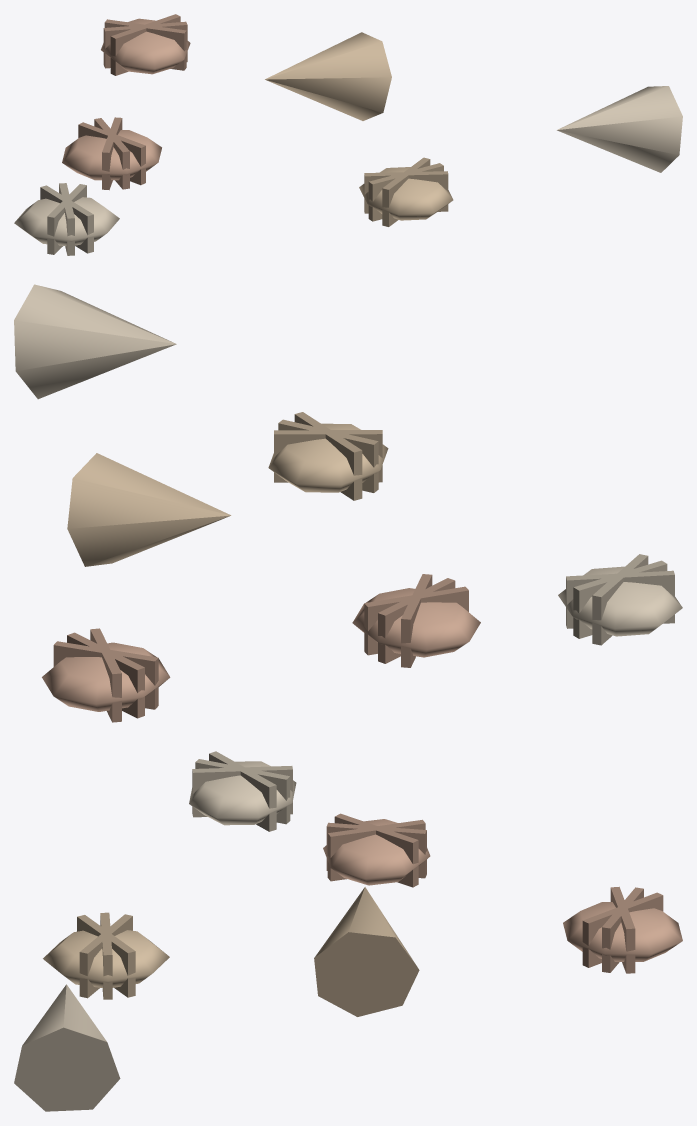
The model's file is conchas.glb.
3 renders of one model, top to bottom at view 1: azimuth 30°, elevation 25°; view 2: azimuth 150°, elevation 25°; view 3: azimuth 270°, elevation 25°, orthographic. The views are drawn at different scales.
Visible parts, largest first — view 1: conchas_Malla; view 2: conchas_Malla; view 3: conchas_Malla.
Part boxes in pixels (x1,y1,x2,y2): conchas_Malla: [14, 14, 682, 255]; conchas_Malla: [14, 284, 682, 722]; conchas_Malla: [14, 751, 682, 1111].
Bounding box in the file's own units: 0.8626 × 0.1168 × 0.7346.
